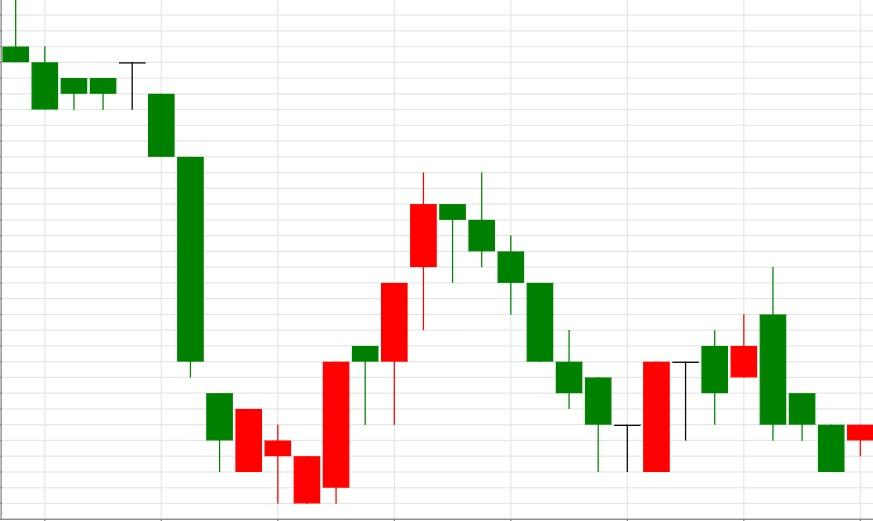bearish_engulfing_fall: (613, 266, 787, 473)
hanging_man_fall: (294, 172, 467, 503)
three_black_crows_fall: (294, 172, 525, 504)
